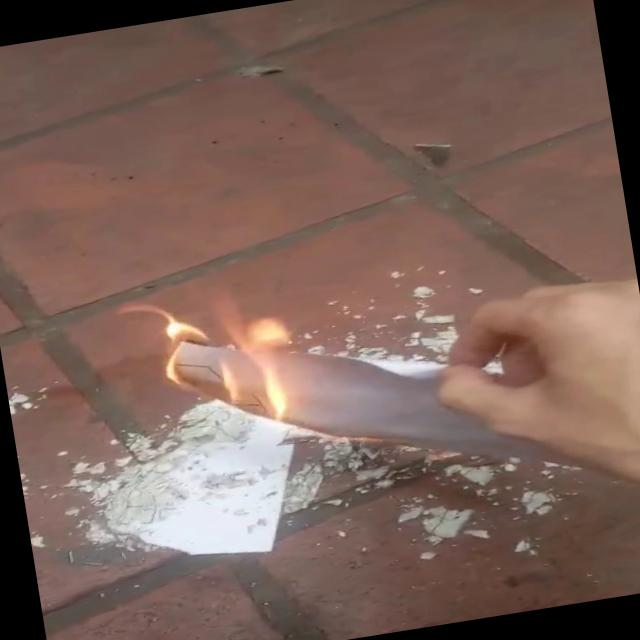Fire_Dangerous: (111, 262, 382, 488)
